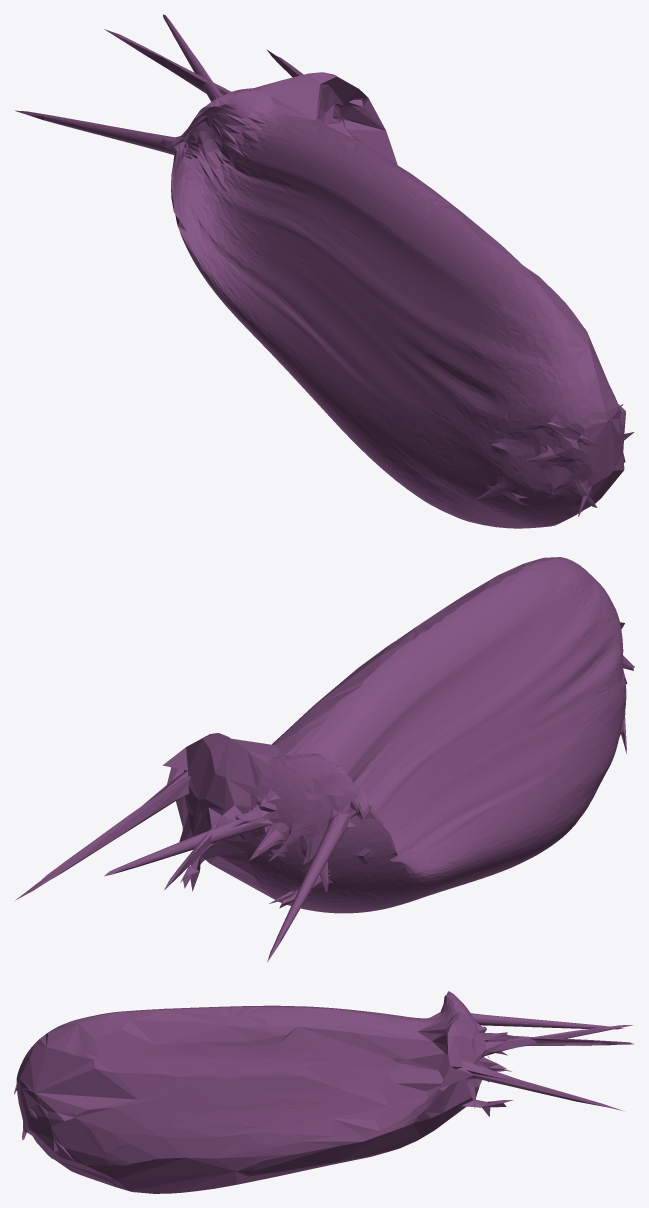
The model's file is Larger Centered Purple Parasite.fbx.
3 renders of one model, top to bottom at view 1: azimuth 30°, elevation 25°; view 2: azimuth 150°, elevation 25°; view 3: azimuth 270°, elevation 25°, orthographic. The views are drawn at different scales.
Parts seen in each view (by area): view 1: Purple_Parasite:Painted_Parasite:Mesh; view 2: Purple_Parasite:Painted_Parasite:Mesh; view 3: Purple_Parasite:Painted_Parasite:Mesh.
Boxes of the visible parts, <box> form: Purple_Parasite:Painted_Parasite:Mesh: <box>15,14,634,528</box>; Purple_Parasite:Painted_Parasite:Mesh: <box>15,557,634,961</box>; Purple_Parasite:Painted_Parasite:Mesh: <box>14,991,633,1193</box>.
Size of the model in its own units: 4.11 by 4.13 by 13.04.
